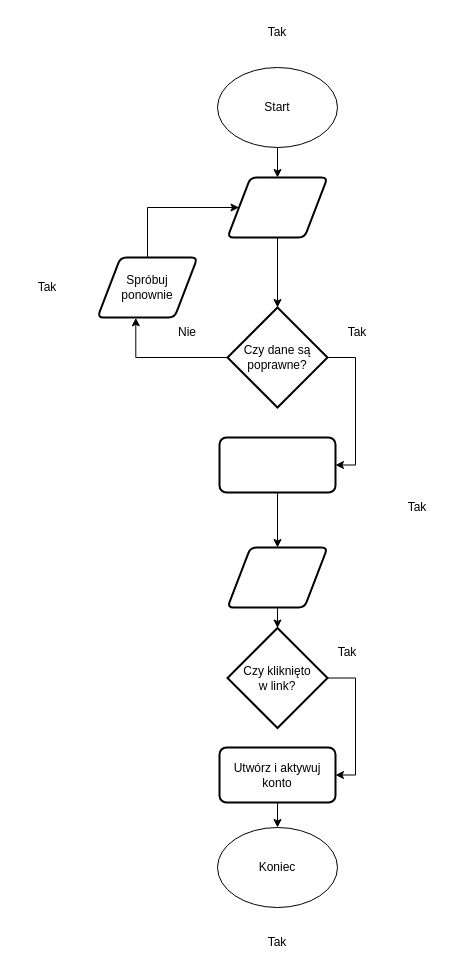
This 464x974 diagram has some shape labels left out. Each missing label, with the centre of its shape:
Kliknij w link aktywacyjny: point (277, 577)
Podaj dane rejestracji: point (277, 207)
Wyślij e-mail weryfikacyjny: point (277, 464)
